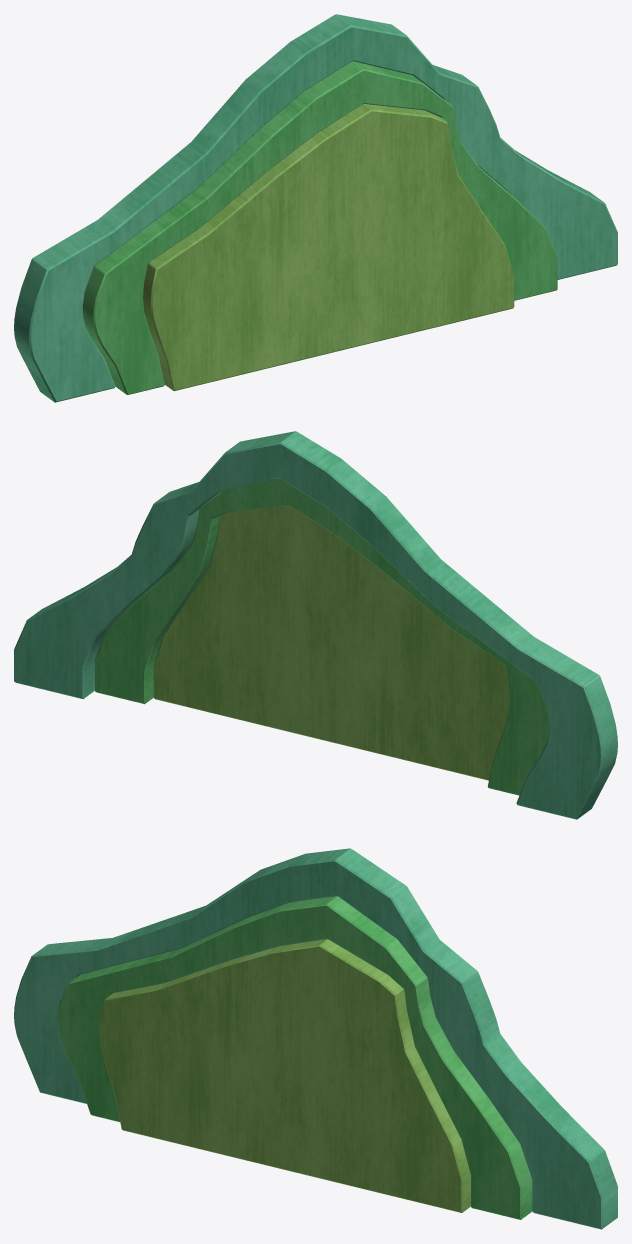
Rendered from mountain1.fbx.
The picture shows the model from 3 angles, top to bottom: view 1: azimuth 30°, elevation 25°; view 2: azimuth 150°, elevation 25°; view 3: azimuth 330°, elevation 25°; orthographic projection.
Visible parts, largest first — view 1: mountain1; view 2: mountain1; view 3: mountain1.
Boxes of the visible parts, x1,y1,x2,y2 form: mountain1: (14,14,617,402); mountain1: (14,431,617,819); mountain1: (14,848,617,1229).
Size of the model in its own units: 4.98 by 2.47 by 0.5062.
